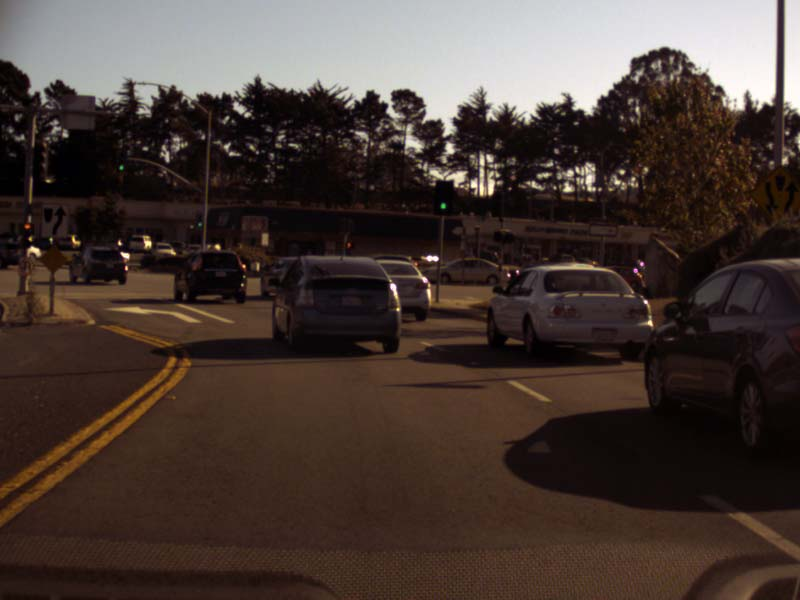Green: (435, 180, 453, 215), (116, 149, 127, 172), (196, 213, 202, 228)
Red: (22, 223, 33, 248)
